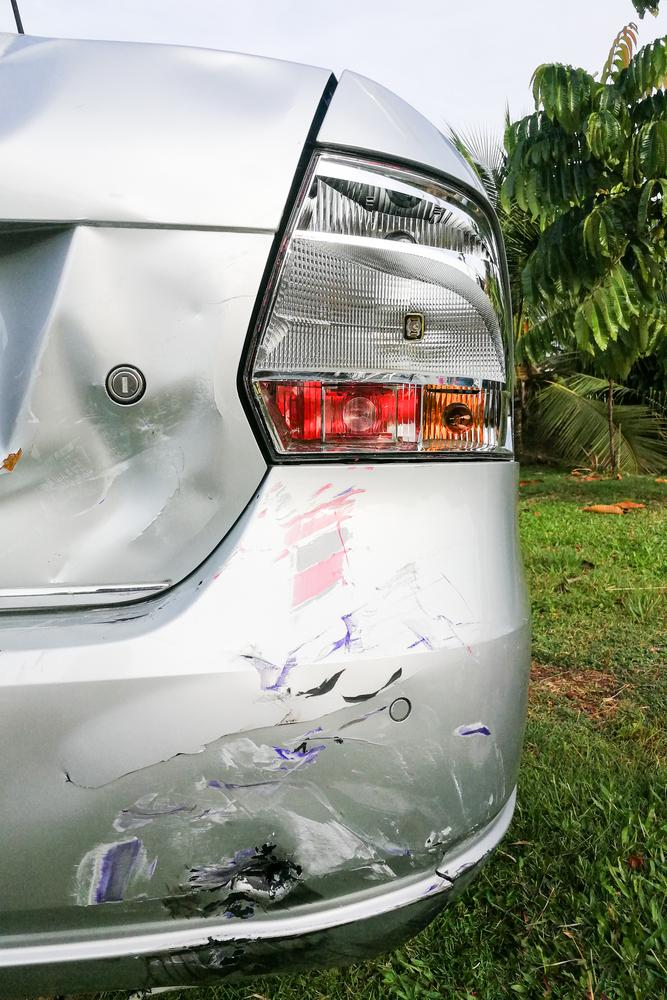crack: (64, 739, 214, 790), (434, 852, 454, 885)
dent: (0, 214, 228, 594), (0, 32, 299, 143)
scratch: (58, 475, 513, 920), (136, 880, 451, 979)
